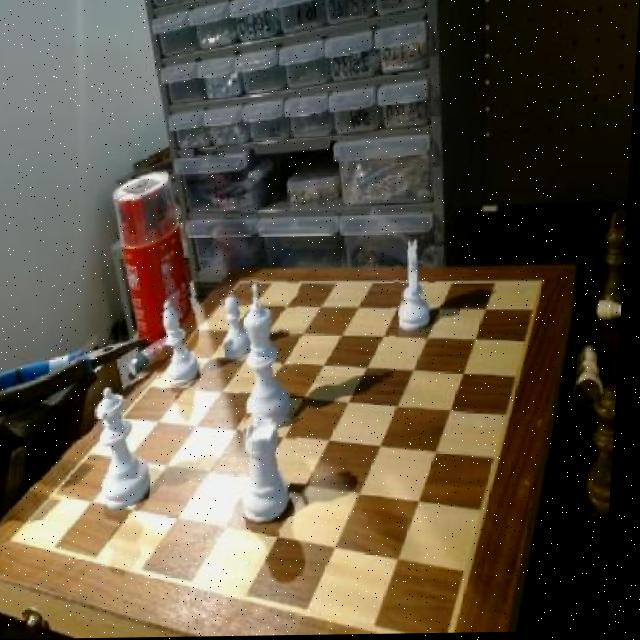black-rook: (157, 297, 206, 394)
white-bishop: (242, 278, 302, 435)
white-king: (394, 234, 441, 343)
white-knight: (223, 292, 258, 370)
white-pawn: (93, 385, 163, 516)
white-queen: (240, 415, 304, 533)
